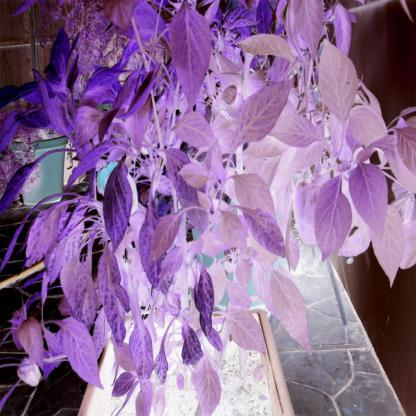bell pepper leaf: (158, 143, 212, 238), (228, 79, 294, 151), (169, 3, 210, 109), (94, 247, 134, 349), (311, 177, 356, 263), (318, 37, 357, 130), (101, 159, 136, 249), (348, 159, 389, 233), (139, 204, 169, 288), (170, 111, 217, 155)
